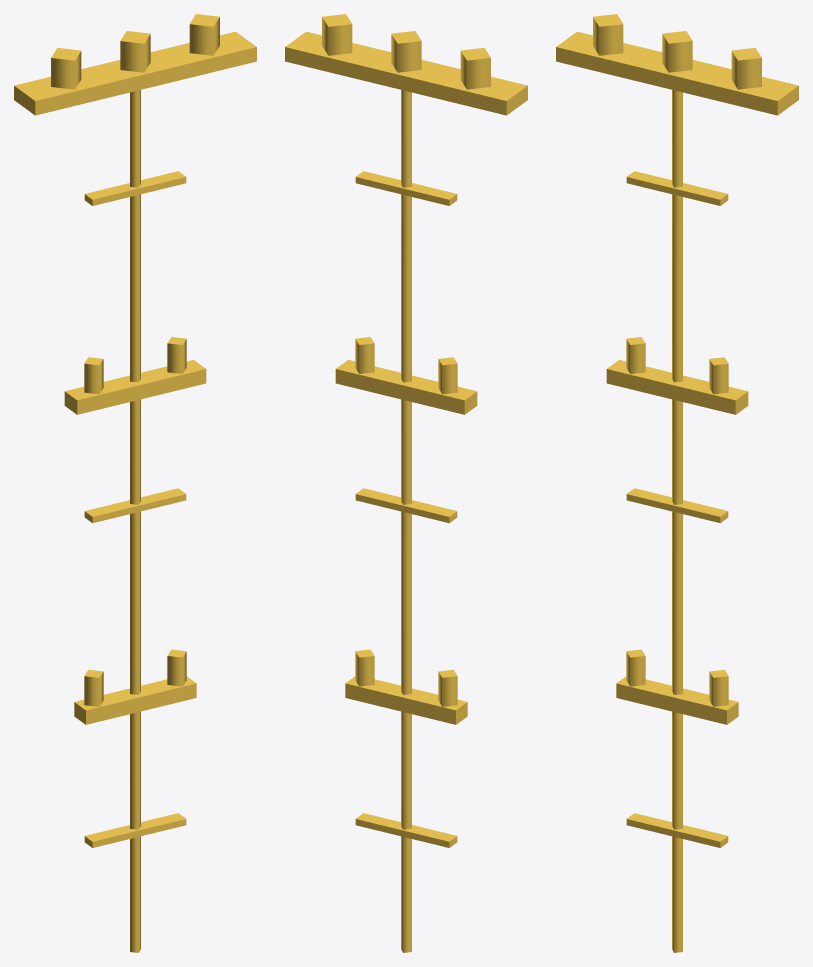
The model's file is TvAntenna.FBX.
3 views of the same model, side by side, from view 1: azimuth 30°, elevation 25°; view 2: azimuth 150°, elevation 25°; view 3: azimuth 330°, elevation 25° (orthographic).
Parts seen in each view (by area): view 1: TvAntenna; view 2: TvAntenna; view 3: TvAntenna.
Part boxes in pixels (bbox=[...]): TvAntenna: bbox=[14, 14, 256, 952]; TvAntenna: bbox=[285, 14, 527, 952]; TvAntenna: bbox=[556, 14, 798, 952].
Bounding box in the file's own units: 80 × 315 × 13.25.
